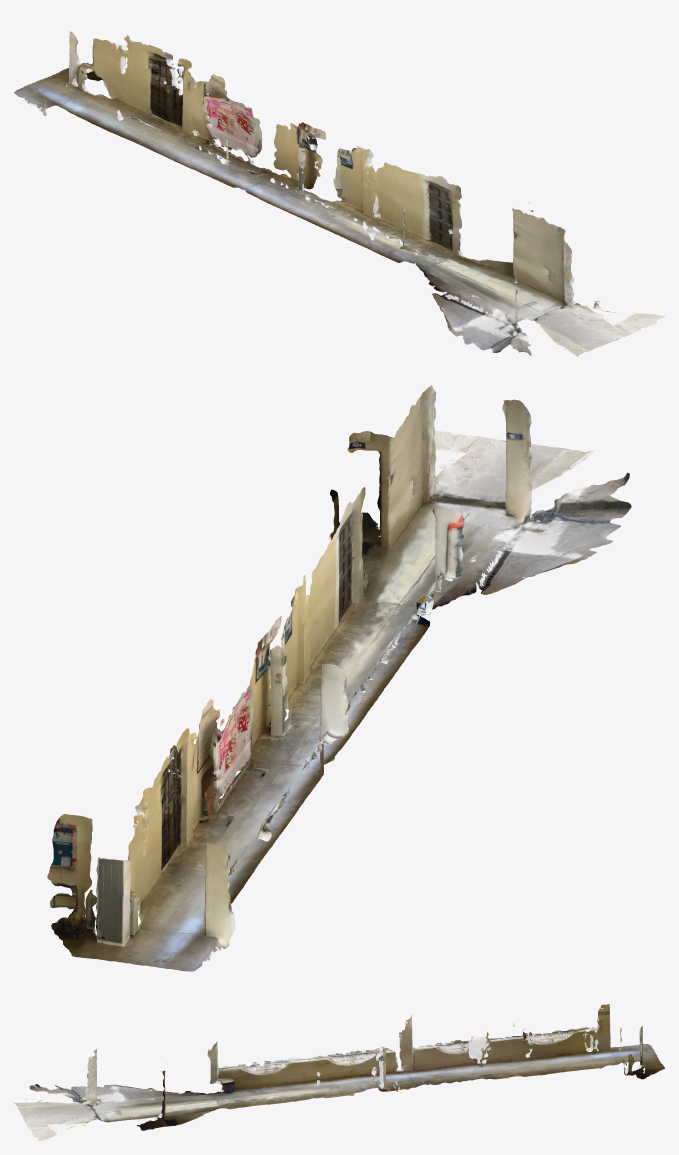
Rendered from MAP_DK8M2D1VCQXF.glb.
The picture shows the model from 3 angles, top to bottom: view 1: azimuth 30°, elevation 25°; view 2: azimuth 150°, elevation 25°; view 3: azimuth 270°, elevation 25°; orthographic projection. The views are drawn at different scales.
Parts seen in each view (by area): view 1: TexturedMesh.obj; view 2: TexturedMesh.obj; view 3: TexturedMesh.obj.
Boxes of the visible parts, x1,y1,x2,y2 form: TexturedMesh.obj: [14, 31, 664, 356]; TexturedMesh.obj: [47, 385, 631, 971]; TexturedMesh.obj: [14, 1004, 664, 1140].
Bounding box in the file's own units: 9.24 × 2.96 × 26.06.
Materials: 1 (1 with a texture image).
